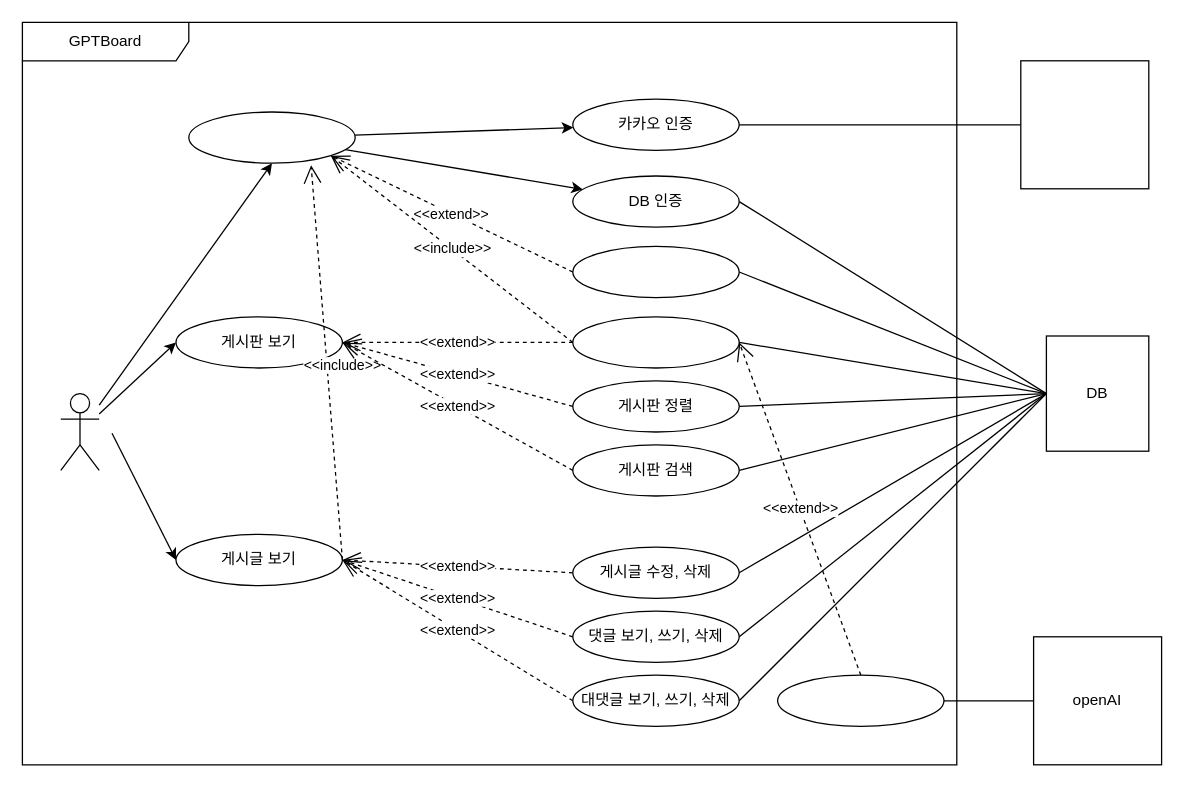
This 1184x787 diagram has some shape labels left out. Here are the shapes that lost their labels. From the top down, the centre of each, then its label:
At [271,137]: "로그인".
At [1084,124]: "카카오 인증 서버".
At [655,271]: "로그인 실패".
At [655,342]: "게시글 쓰기".
At [79,431]: "이용자".
At [860,700]: "자동 게시글 작성".
